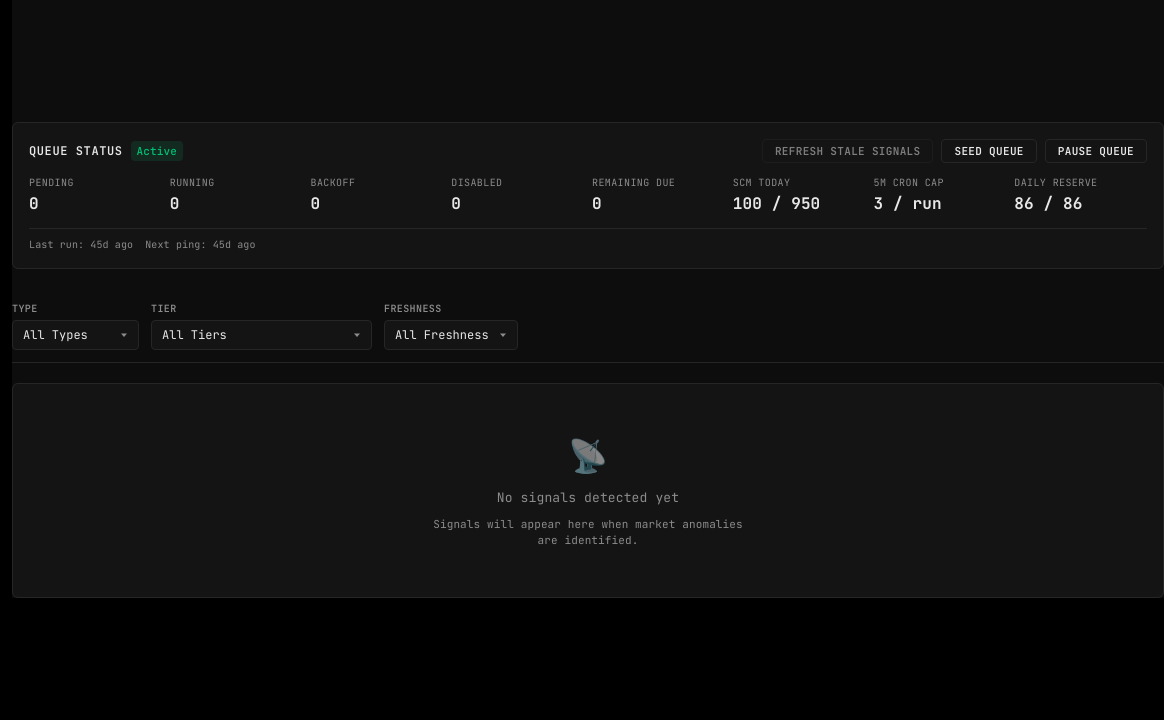
Test case: IntelligenceDashboard › seeds the catalog when the queue is empty and refreshes status
This screenshot has width=1164, height=720.
Click the button with aria-label "Seed intelligence queue" at (989, 151), box [942,139,1037,163]
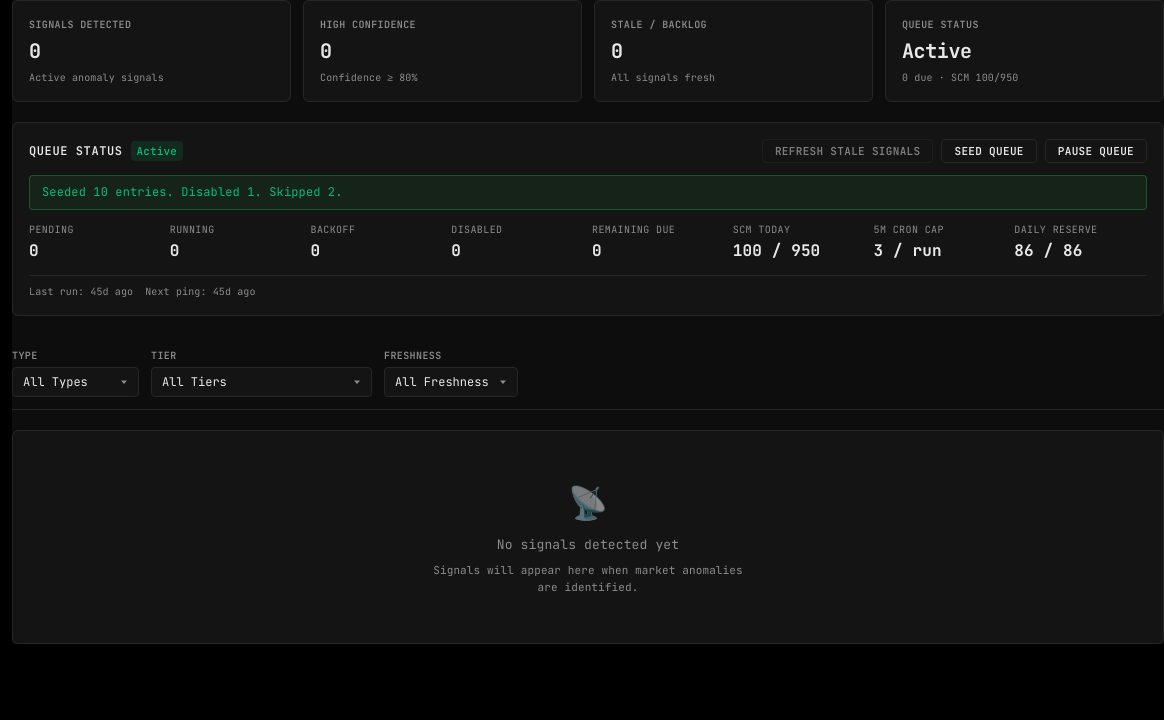
Expected: the text "Seeded 10 entries. Disabled 1. Skipped 2." is shown, [29,175,1147,210]
